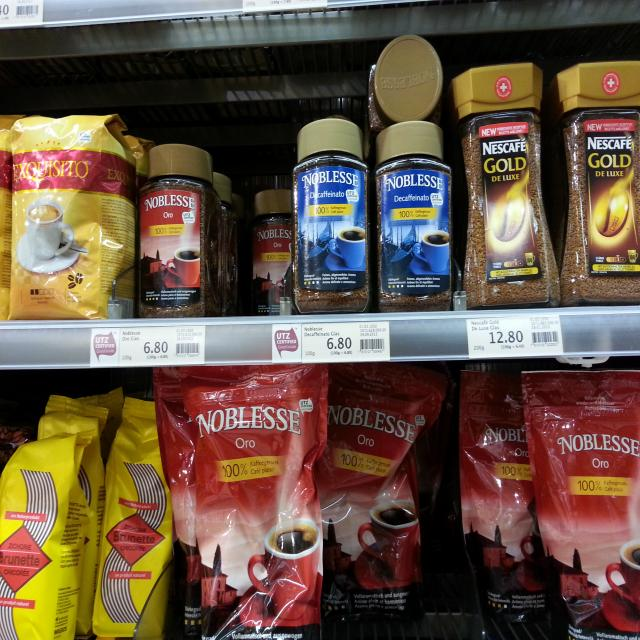Coffee: (154, 368, 327, 638), (314, 365, 446, 635), (521, 370, 640, 640), (13, 107, 133, 320), (454, 65, 560, 306), (1, 390, 92, 640), (457, 367, 532, 640), (559, 63, 640, 304), (96, 391, 172, 640), (372, 121, 457, 308), (294, 118, 370, 316), (138, 144, 217, 322), (250, 192, 298, 309)
